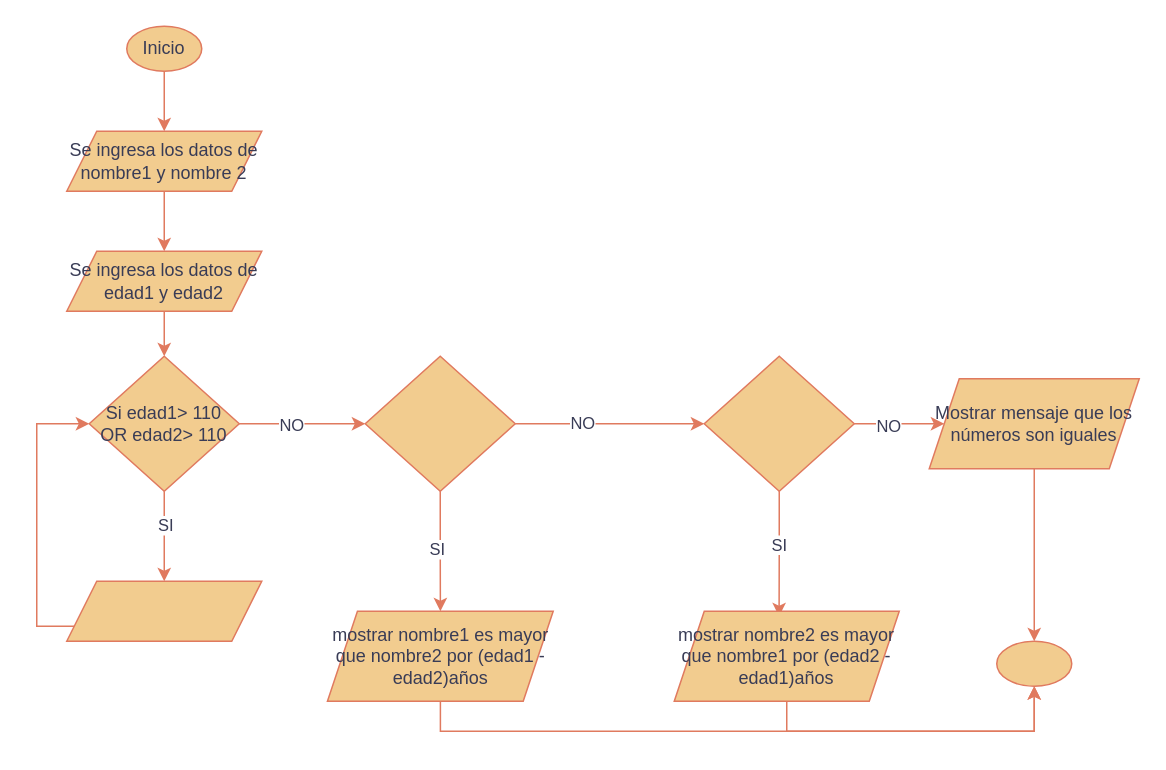
The diagram is 1166 pixels wide and 770 high, and some of its shapes have lost their labels. The centre of each missing label's shape, as x and y in pixels:
Fin: [1033,663]
Se ingresa otra vez los datos edad1 y edad2: [163,610]
Si edad1< edad2: [778,423]
Si edad1> edad2: [439,423]
